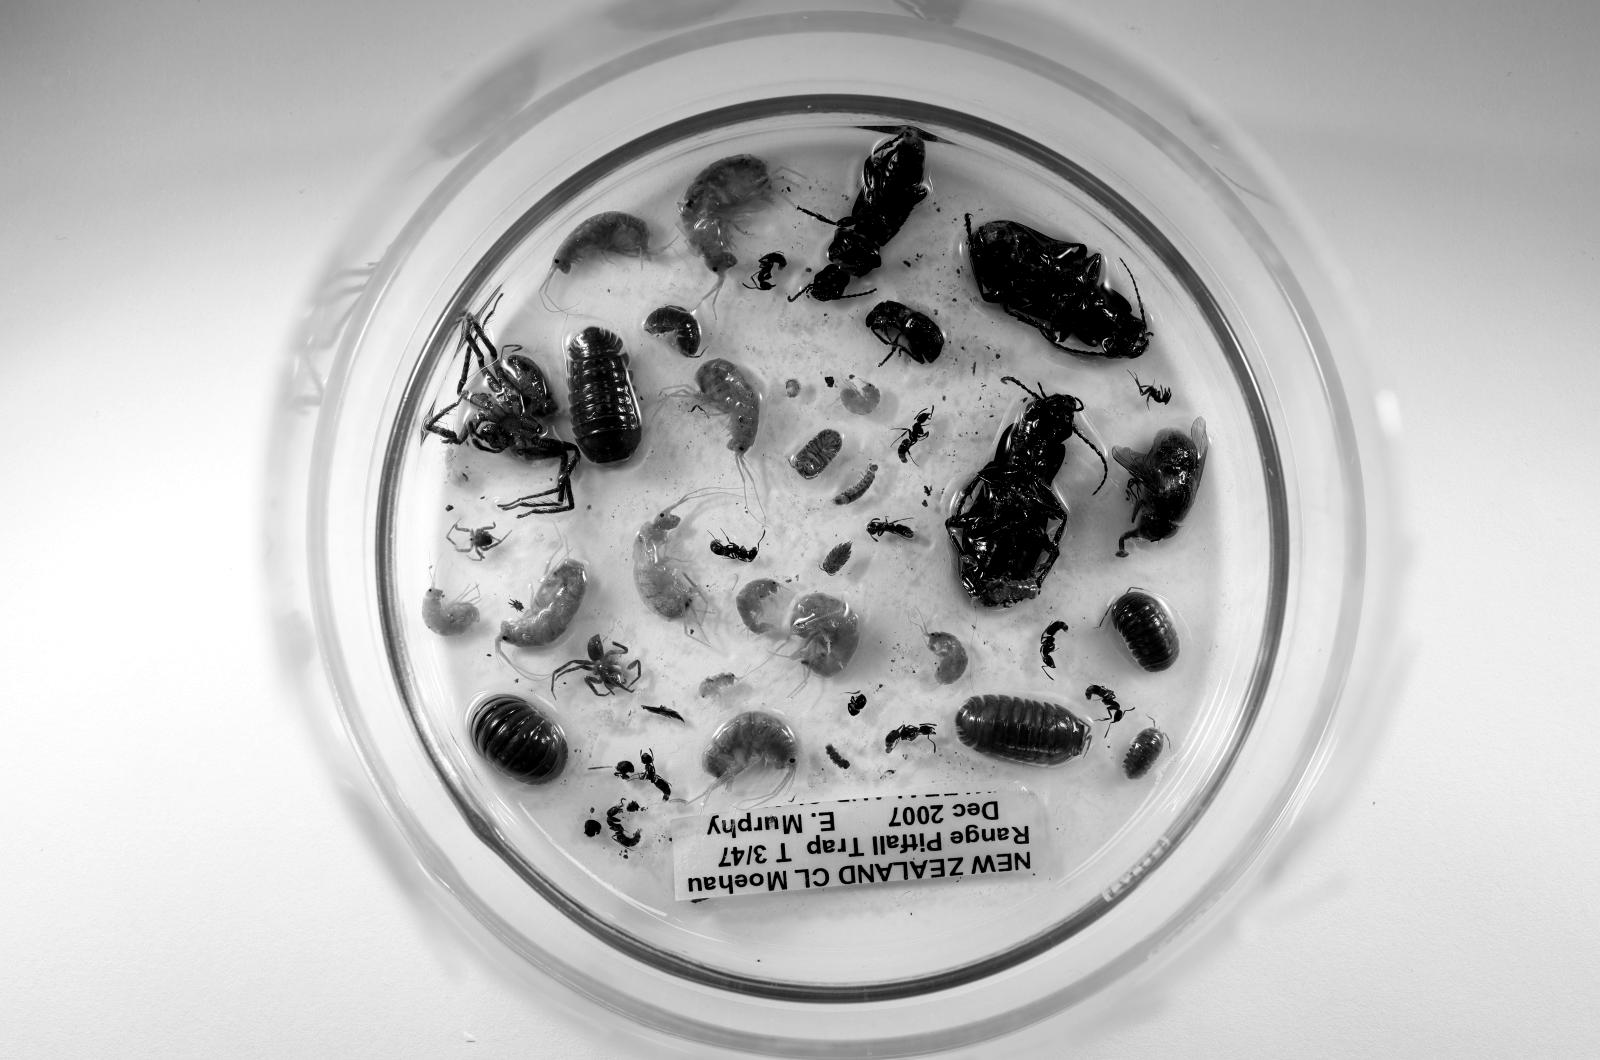amphipoda: (681, 155, 775, 310), (634, 509, 706, 642), (694, 711, 797, 804), (494, 556, 588, 658), (784, 593, 860, 696), (553, 211, 653, 273), (697, 360, 759, 453), (422, 587, 478, 636), (922, 627, 969, 686), (738, 577, 778, 634), (841, 382, 881, 416), (697, 671, 738, 699), (784, 379, 799, 397)
araneae: (425, 292, 582, 516), (550, 634, 641, 696), (447, 525, 506, 558)
carabidae: (947, 379, 1084, 606), (966, 214, 1149, 357), (788, 128, 928, 302)
coleoptera: (866, 302, 947, 363), (847, 696, 866, 717)
diptera: (1113, 419, 1210, 556)
formicidae: (896, 407, 934, 463), (1084, 684, 1134, 724), (747, 252, 788, 292), (641, 751, 672, 801), (607, 804, 641, 848), (885, 724, 938, 751), (1041, 621, 1069, 671), (866, 518, 915, 541), (710, 541, 759, 562), (1134, 376, 1172, 403)
isopoda: (565, 327, 641, 466), (957, 696, 1090, 767), (468, 696, 569, 786), (1109, 590, 1178, 671), (643, 308, 700, 357), (791, 428, 841, 478), (1122, 730, 1162, 780), (835, 463, 879, 506), (822, 543, 853, 575)
